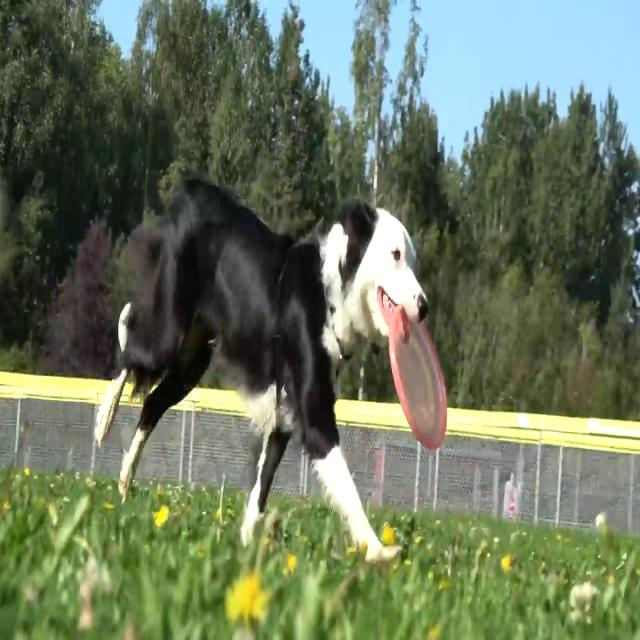Dog: (94, 175, 448, 561)
